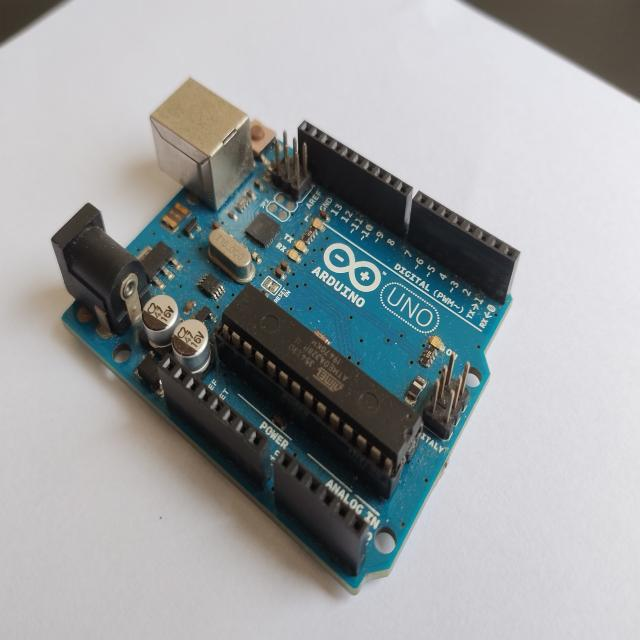arduino: (45, 76, 523, 604)
